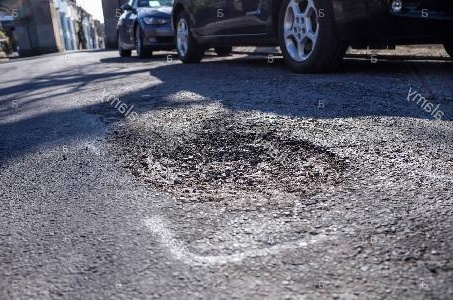pothole: (103, 125, 354, 213)
